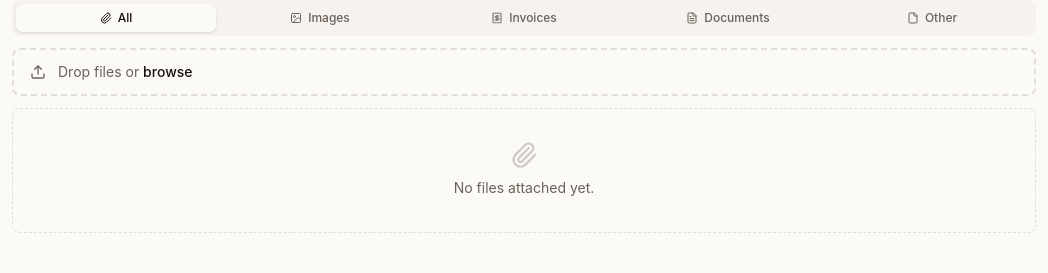
<CommodityFilesTab /> › switches the upload-zone copy by active chip
Check: the button with test id "commodity-files-upload-zone" shows "Drop files or", box [12, 48, 1036, 96]
Step 1. Click the tab with test id "commodity-files-chip-images" → (320, 18), box [220, 4, 420, 32]
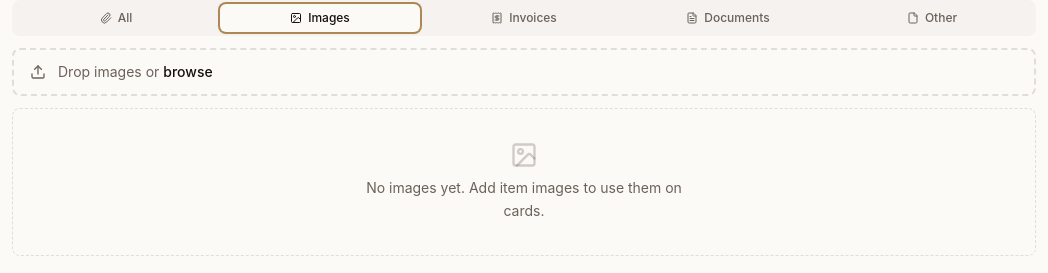
Check: the button with test id "commodity-files-upload-zone" shows "Drop images or", box [12, 48, 1036, 96]
Step 2. Click the tab with test id "commodity-files-chip-invoices" → (524, 18), box [424, 4, 624, 32]
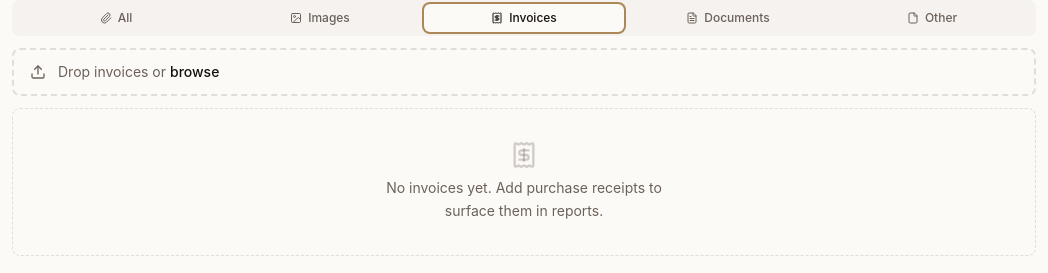
Check: the button with test id "commodity-files-upload-zone" shows "Drop invoices or", box [12, 48, 1036, 96]
Step 3. Click the tab with test id "commodity-files-chip-documents" → (728, 18), box [628, 4, 828, 32]
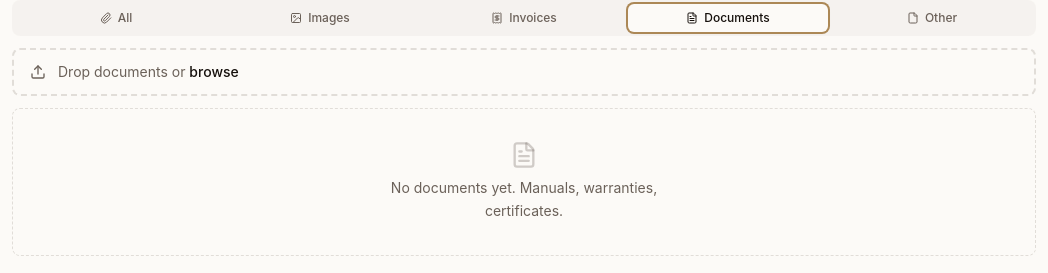
Check: the button with test id "commodity-files-upload-zone" shows "Drop documents or", box [12, 48, 1036, 96]
